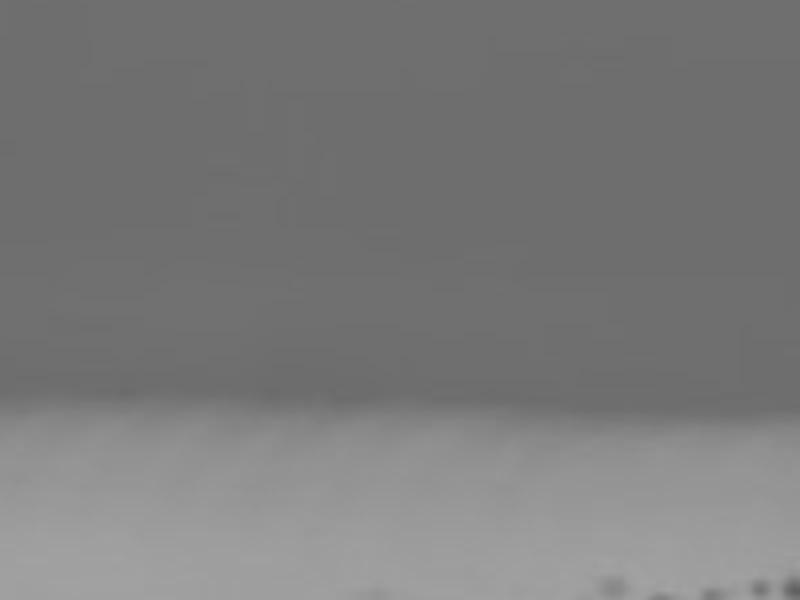defect: (602, 573, 626, 599), (749, 579, 770, 598), (783, 576, 800, 599), (701, 586, 726, 600), (649, 592, 672, 600)
